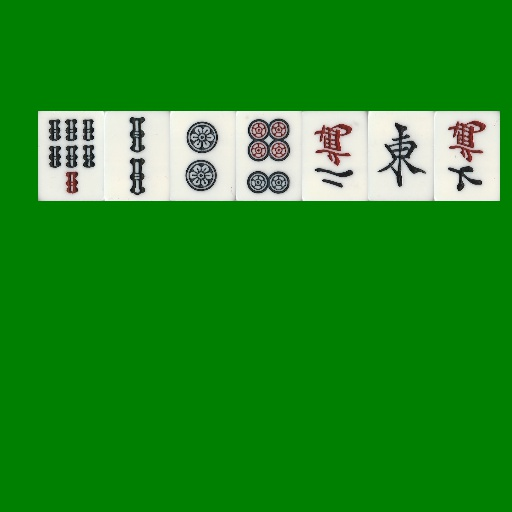2m: (302, 111, 368, 201)
2p: (170, 111, 236, 201)
2s: (104, 111, 170, 201)
6p: (236, 111, 302, 201)
7m: (434, 111, 500, 201)
7s: (38, 111, 104, 201)
east: (368, 111, 434, 201)
